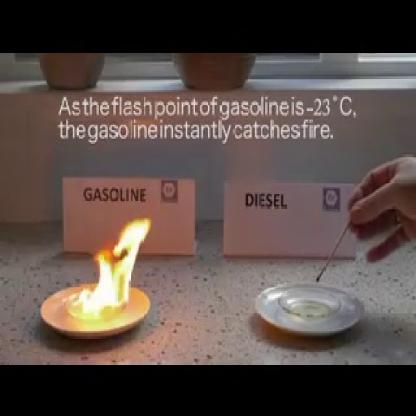fire: (68, 215, 152, 316)
